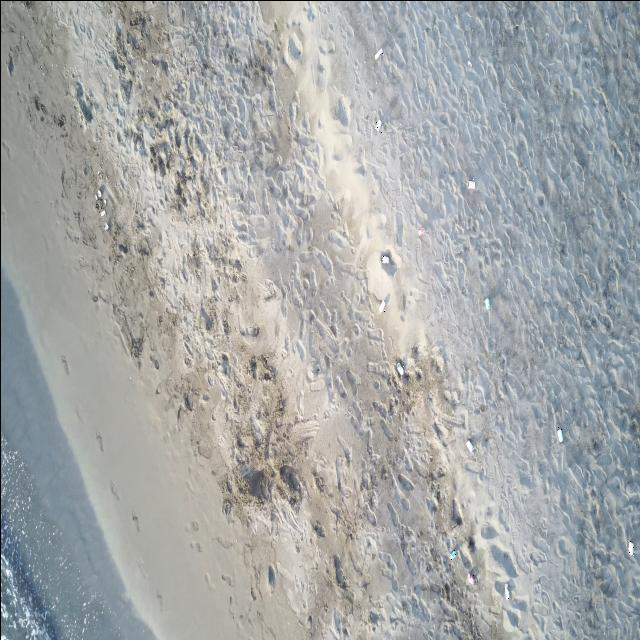Garbage: (380, 251, 395, 273), (395, 362, 404, 375), (467, 572, 476, 584), (380, 253, 390, 263), (448, 548, 457, 559), (504, 583, 510, 599), (379, 299, 386, 312), (556, 427, 562, 442), (375, 48, 382, 60), (417, 227, 424, 239), (627, 540, 632, 555), (467, 179, 475, 188), (484, 298, 489, 310), (375, 119, 380, 131), (467, 440, 472, 452), (103, 221, 108, 230), (96, 188, 100, 199), (100, 209, 104, 216), (467, 60, 471, 65), (96, 193, 97, 200)
